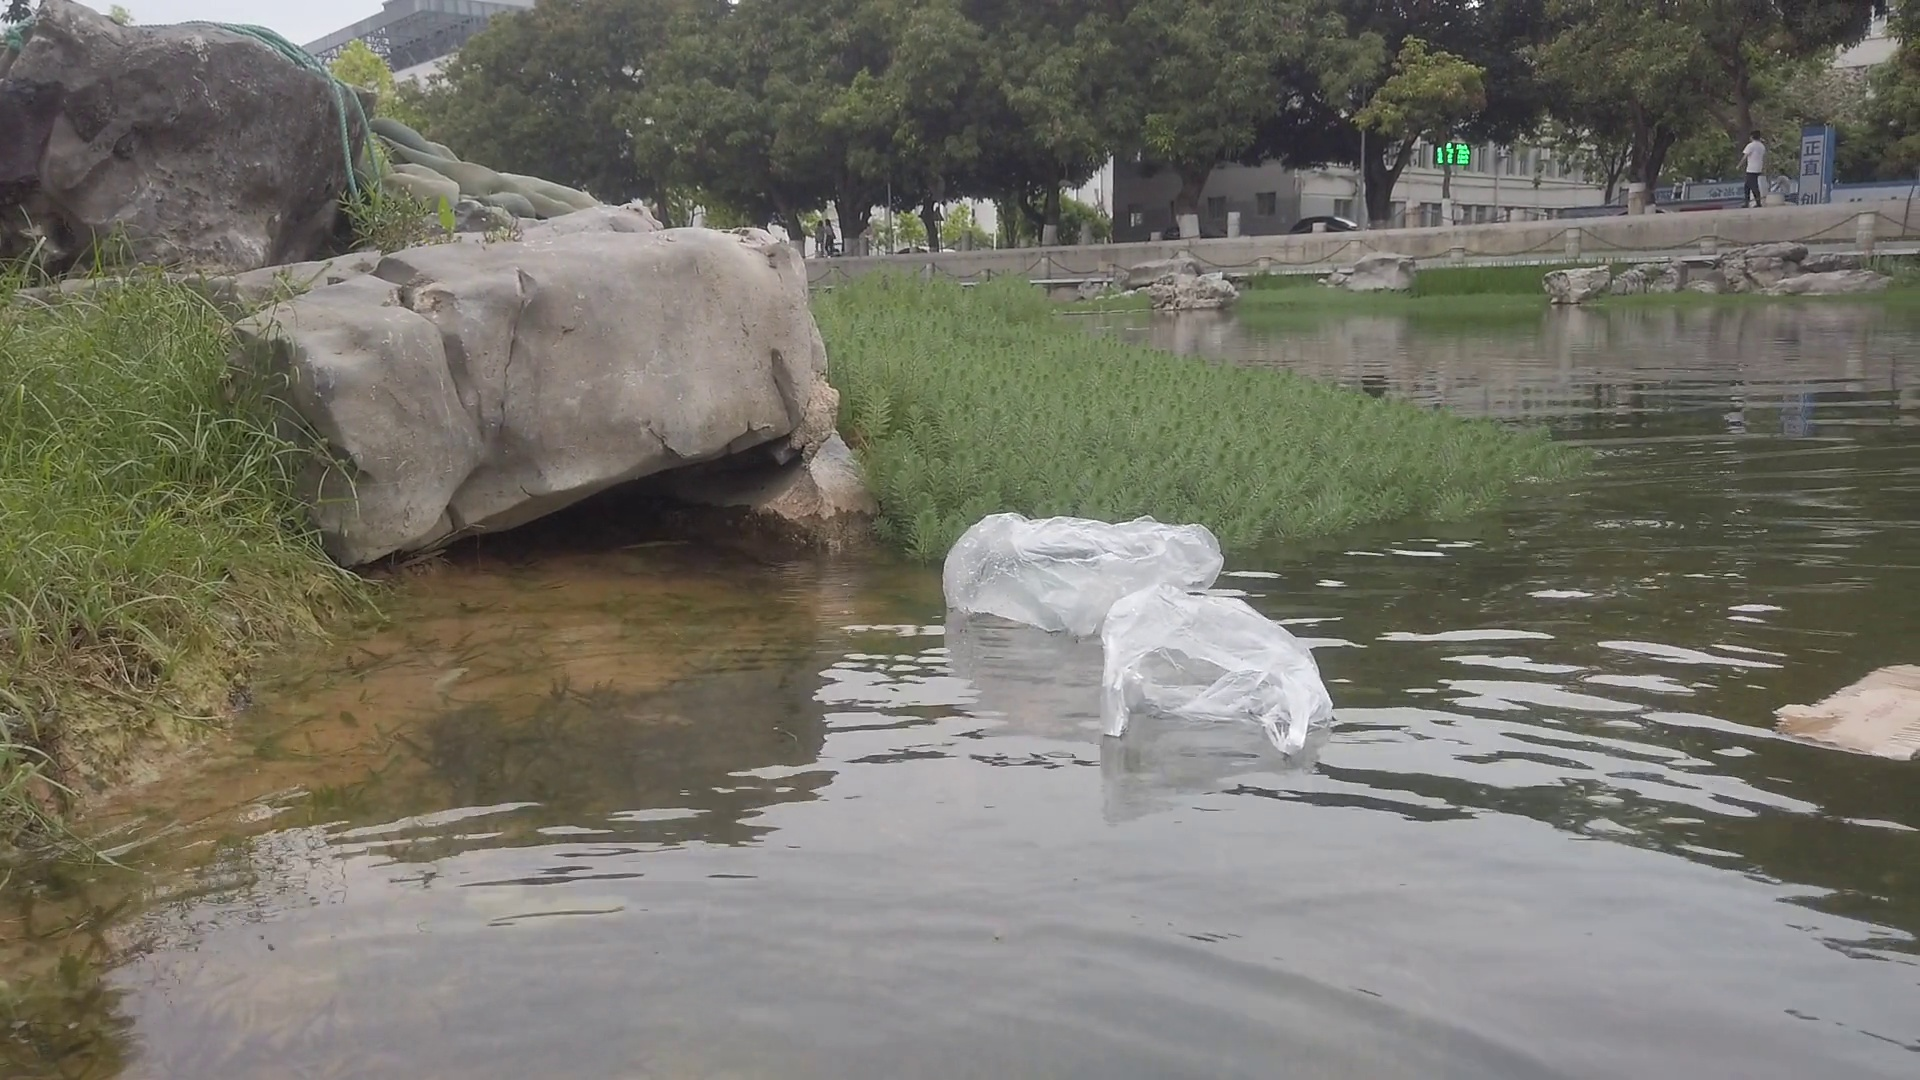paper: (1768, 653, 1920, 764)
plastic: (1091, 584, 1332, 742), (944, 509, 1226, 638)
